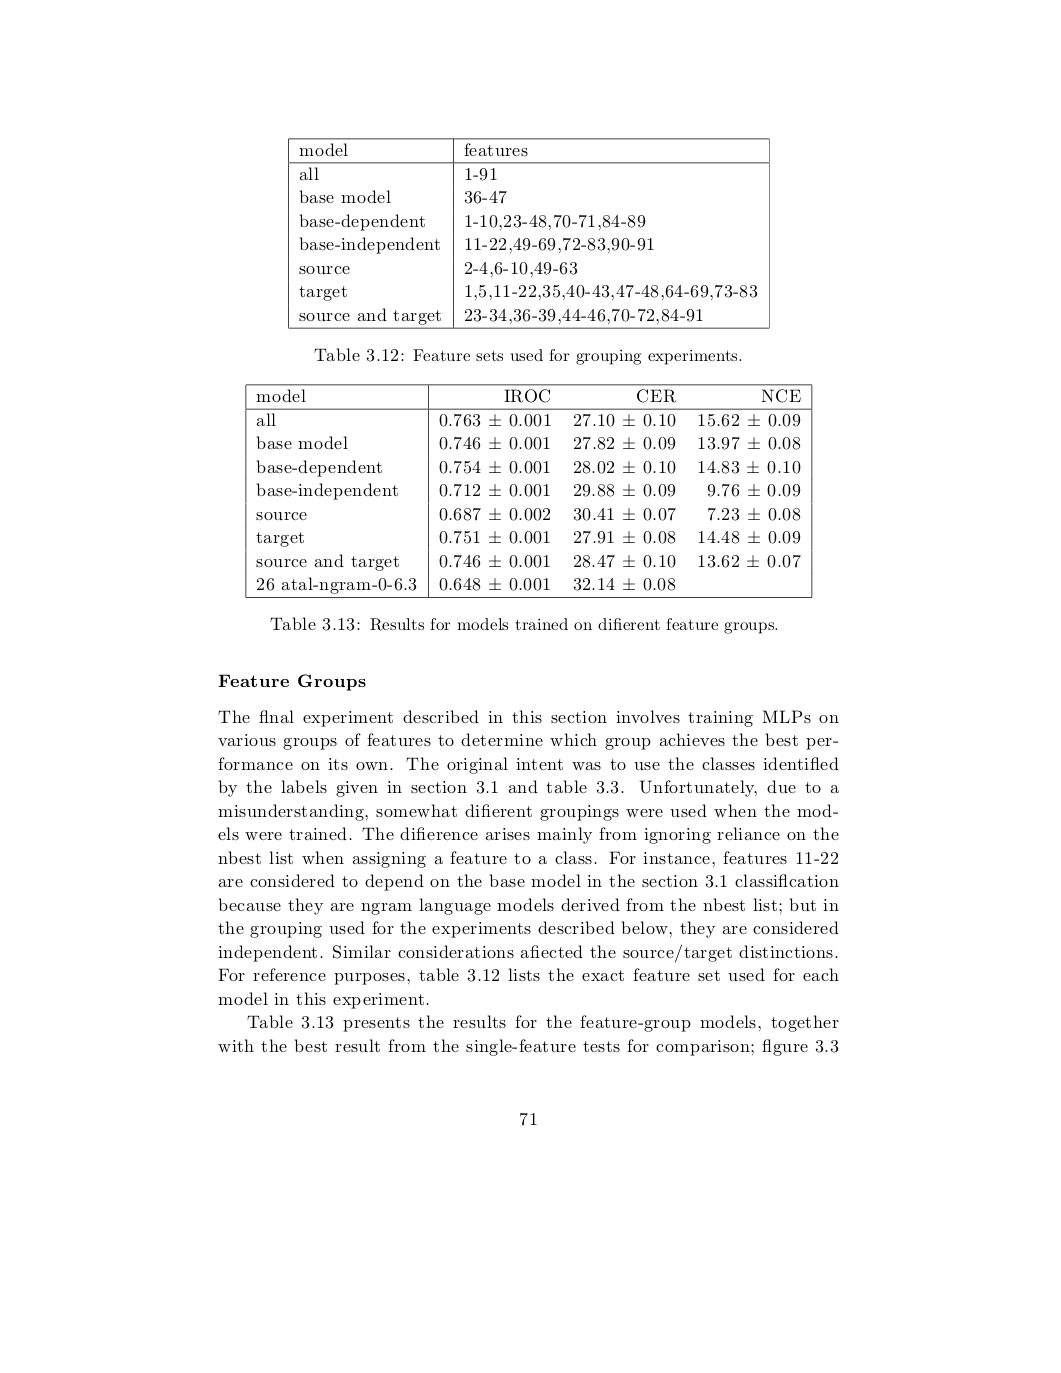Table: (245, 382, 812, 598), (288, 137, 769, 329)
